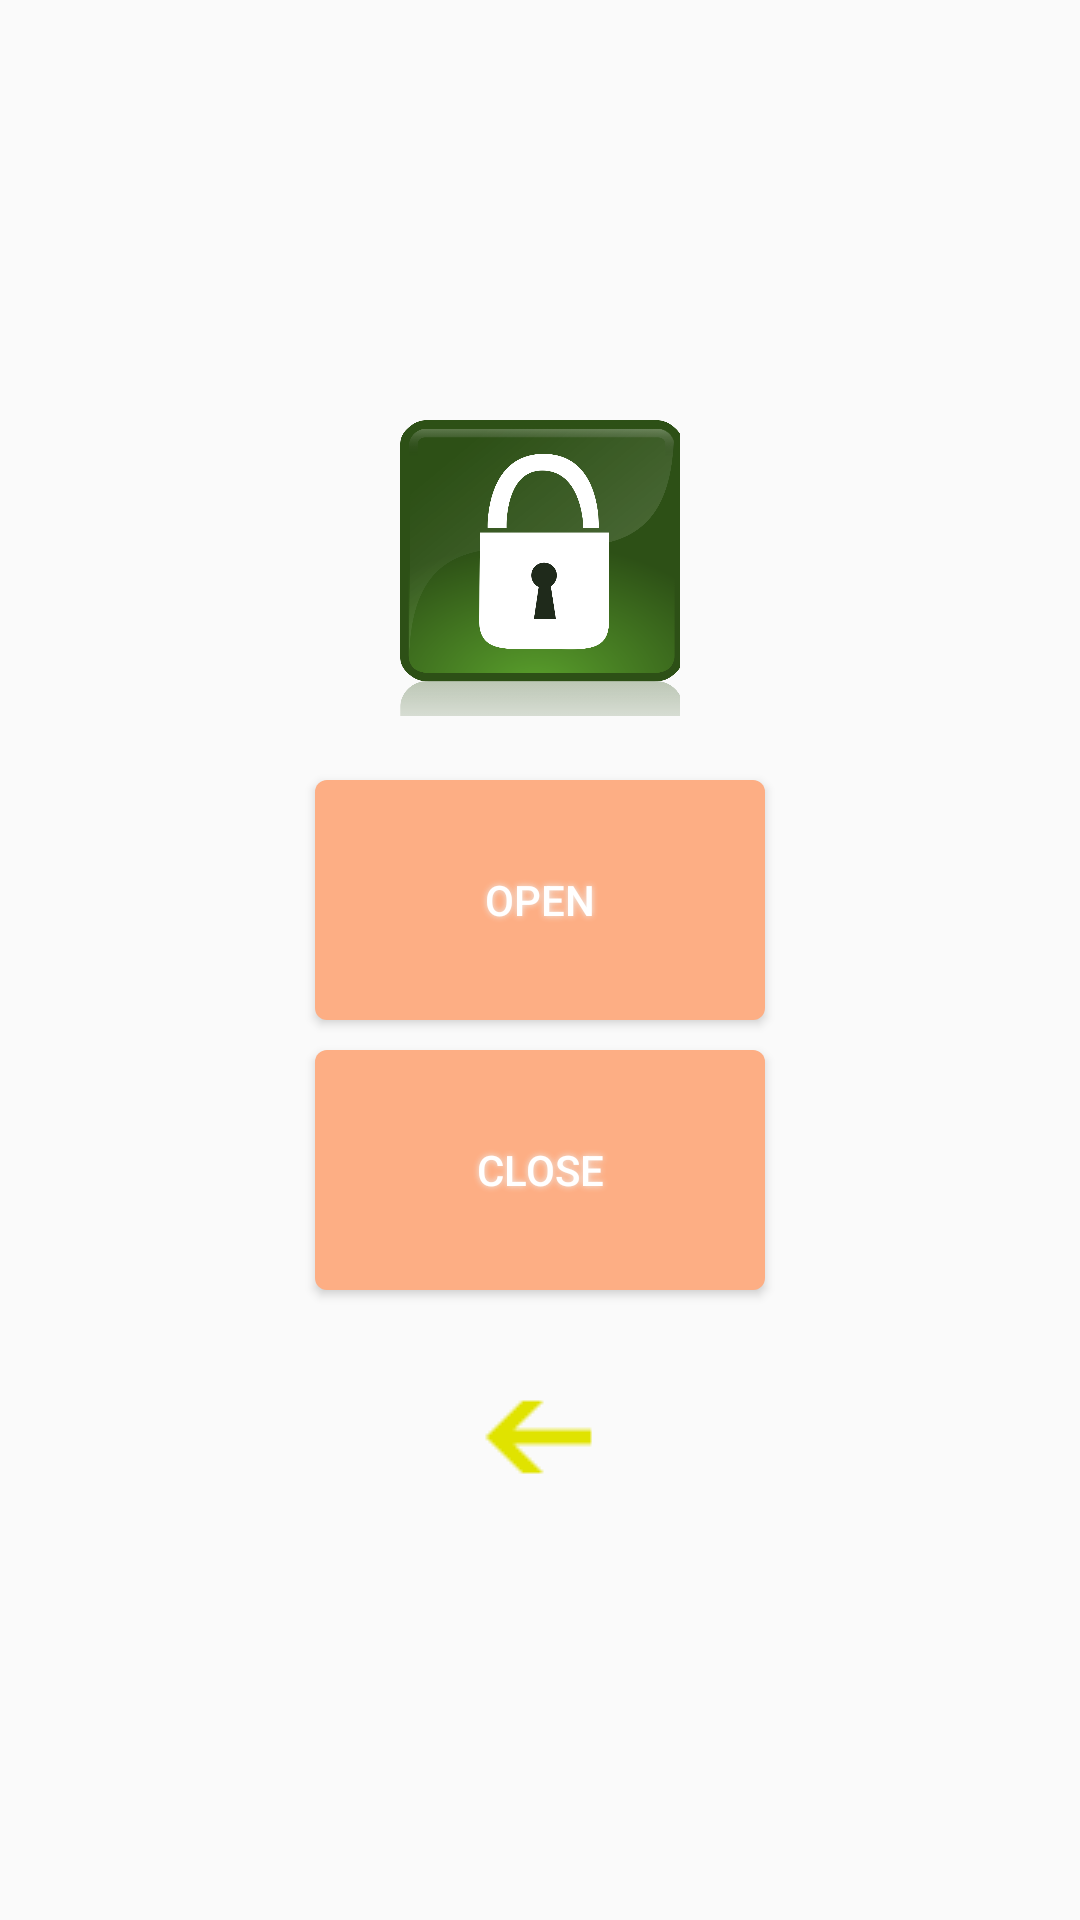

Icon bounding boxes for this 1080px×1920px phone screenshot, format (x1, y1, x2, y2):
back: (485, 1400, 592, 1474)
